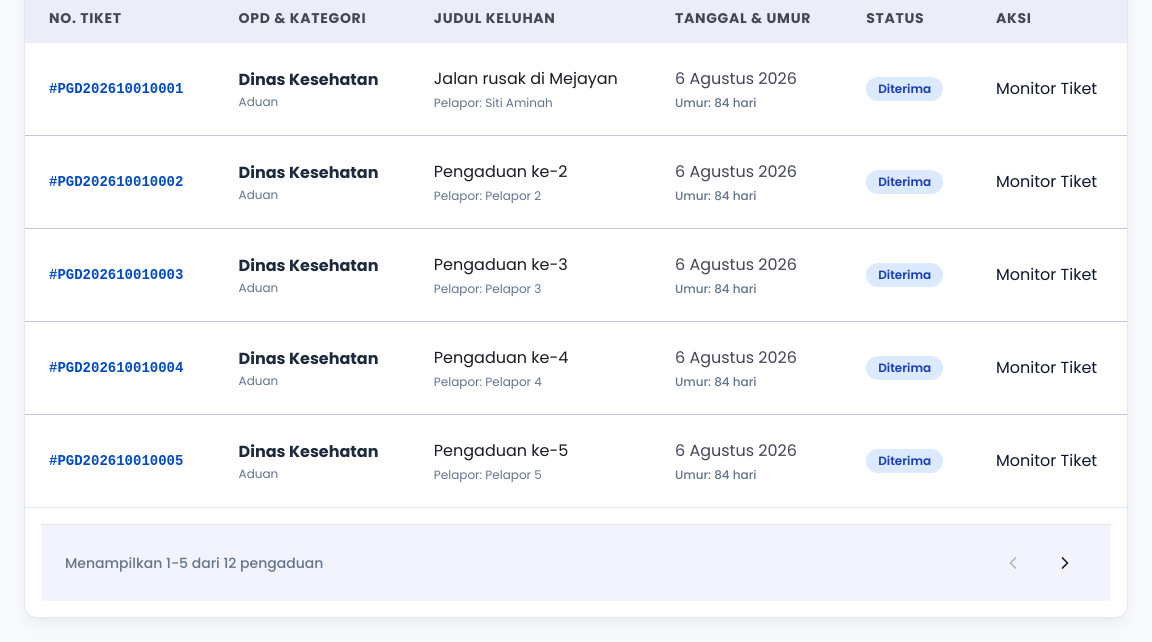
Scenario: AdminKabComplaintsPage — paginasi dan penyaring di klien › pencarian menyaring daftarnya dan mengembalikan ke halaman pertama
(page scrolled)
Check: the text "Jalan rusak di Mejayan" is shown, box [434,67,627,91]
Click the button named "Halaman berikutnya" at (1065,563), box [1043,541,1087,585]
(page scrolled)
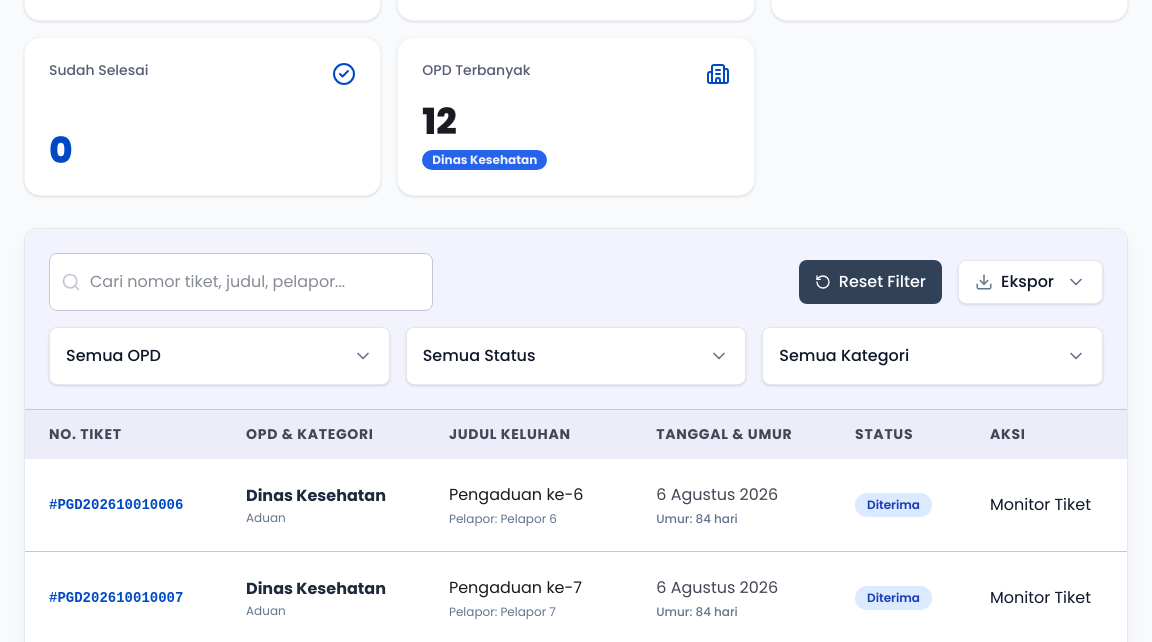
Check: the text "Pengaduan ke-6" is shown, box [449,483,584,506]
Type "mejayan" into the field with placeholder "Cari nomor tiket, judul, pelapor..." at (241,282), box [49,253,433,311]
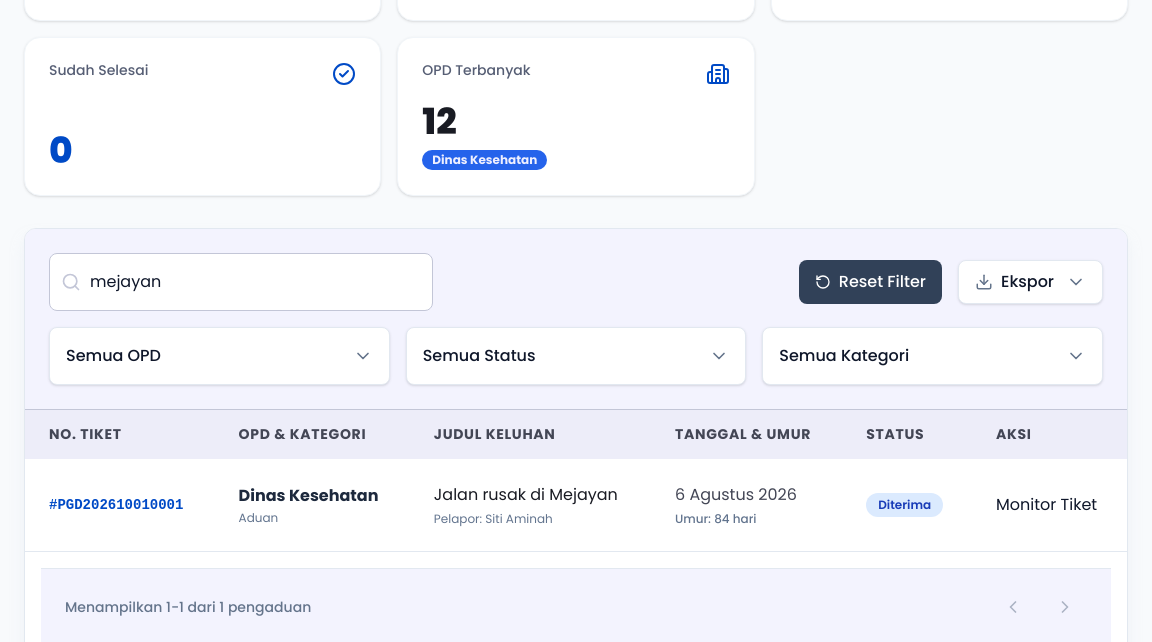
Check: the text "Jalan rusak di Mejayan" is shown, box [434,483,627,507]
Check: the text "Pengaduan ke-6" is gone
Check: the text "Menampilkan 1-1 dari 1 pengaduan" is shown, box [65,597,311,617]
